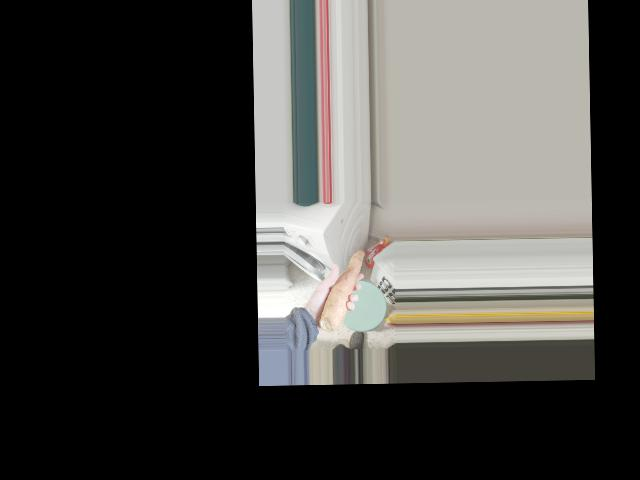sweet_potato: (315, 244, 369, 333)
